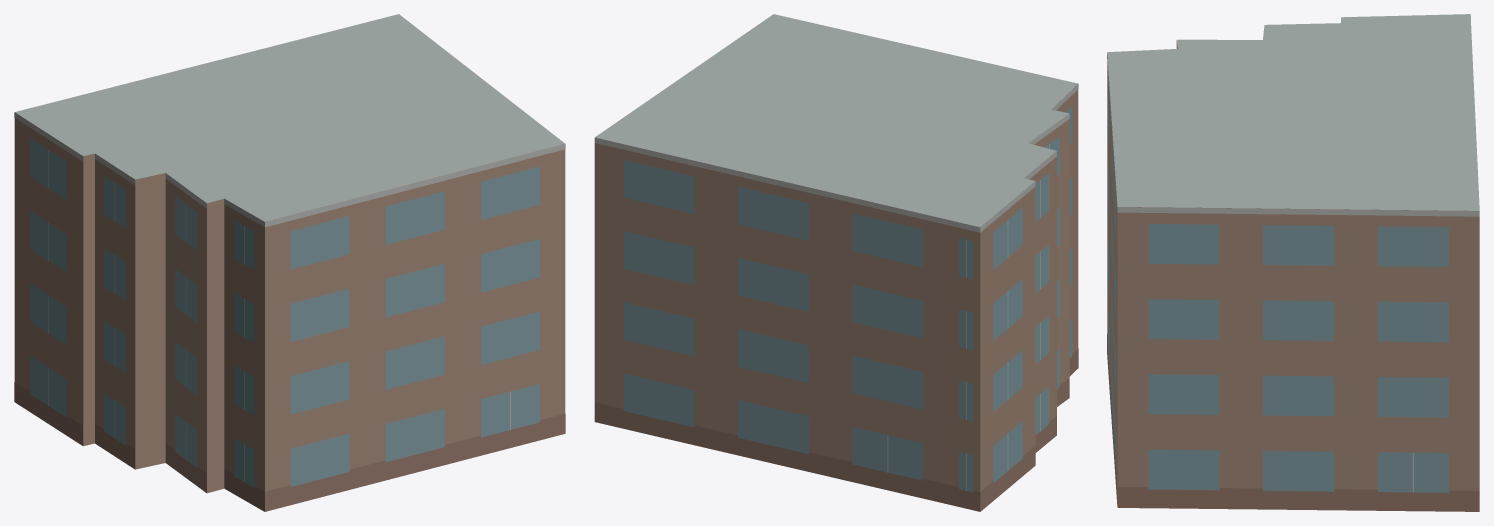
Rendered from survey-upis-32970026.glb.
3 renders of one model, left to right at view 1: azimuth 30°, elevation 25°; view 2: azimuth 150°, elevation 25°; view 3: azimuth 270°, elevation 25°, orthographic. The views are drawn at different scales.
Parts seen in each view (by area): view 1: survey-upis-32970026.tmp; view 2: survey-upis-32970026.tmp; view 3: survey-upis-32970026.tmp.
Part boxes in pixels (left/top/right/bottom): survey-upis-32970026.tmp: left=14, top=14, right=565, bottom=511; survey-upis-32970026.tmp: left=594, top=14, right=1078, bottom=511; survey-upis-32970026.tmp: left=1107, top=14, right=1479, bottom=511.
Bounding box in the file's own units: 17.97 × 12.8 × 14.37.
